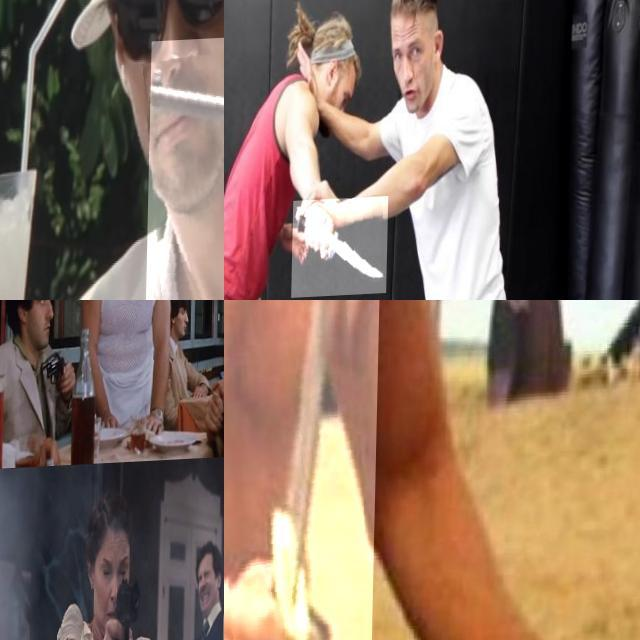-: (224, 300, 381, 640), (292, 199, 389, 300)
gun-knife-thesis - v11 Yolov5 augmented: (146, 32, 224, 300), (0, 300, 61, 383), (0, 541, 46, 640), (103, 578, 145, 640), (37, 350, 75, 409)
